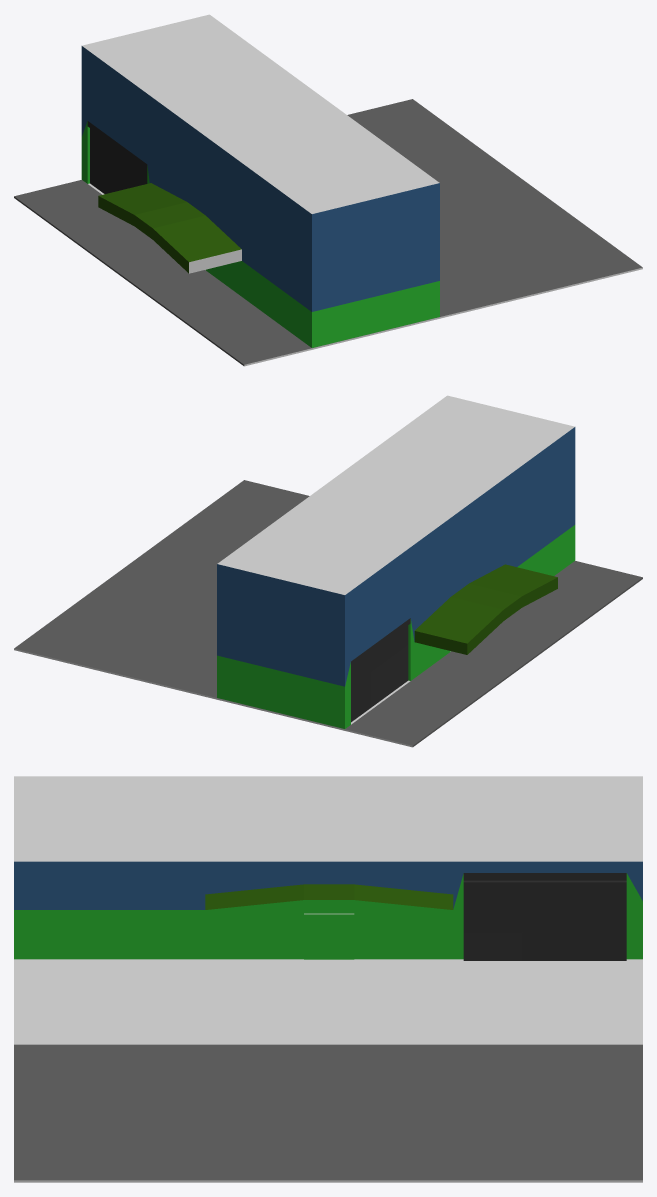
Rendered from Supermecado.fbx.
3 views of the same model, one above another, from view 1: azimuth 30°, elevation 25°; view 2: azimuth 150°, elevation 25°; view 3: azimuth 270°, elevation 25° (orthographic). The views are drawn at different scales.
Parts seen in each view (by area): view 1: Supermercado; view 2: Supermercado; view 3: Supermercado.
Part boxes in pixels (x1,y1,x2,y2): Supermercado: [14, 14, 642, 366]; Supermercado: [14, 395, 642, 747]; Supermercado: [14, 776, 642, 1182].
Bounding box in the file's own units: 2500 × 813 × 2500.
